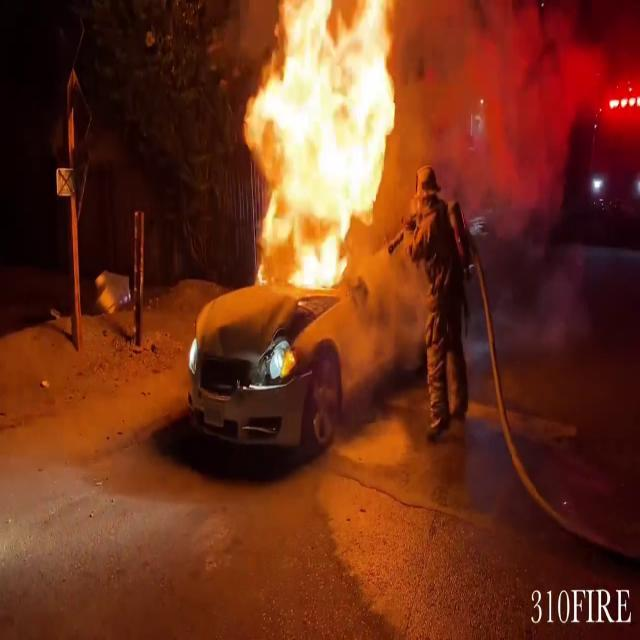Fire: (237, 0, 425, 296)
Smoke: (400, 0, 582, 232)
